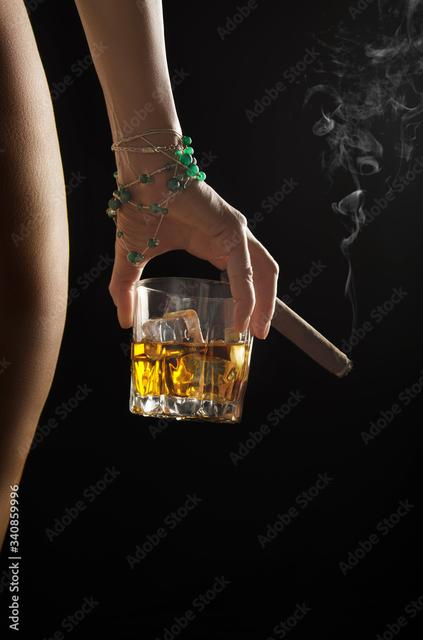Cigar: (219, 272, 353, 378)
